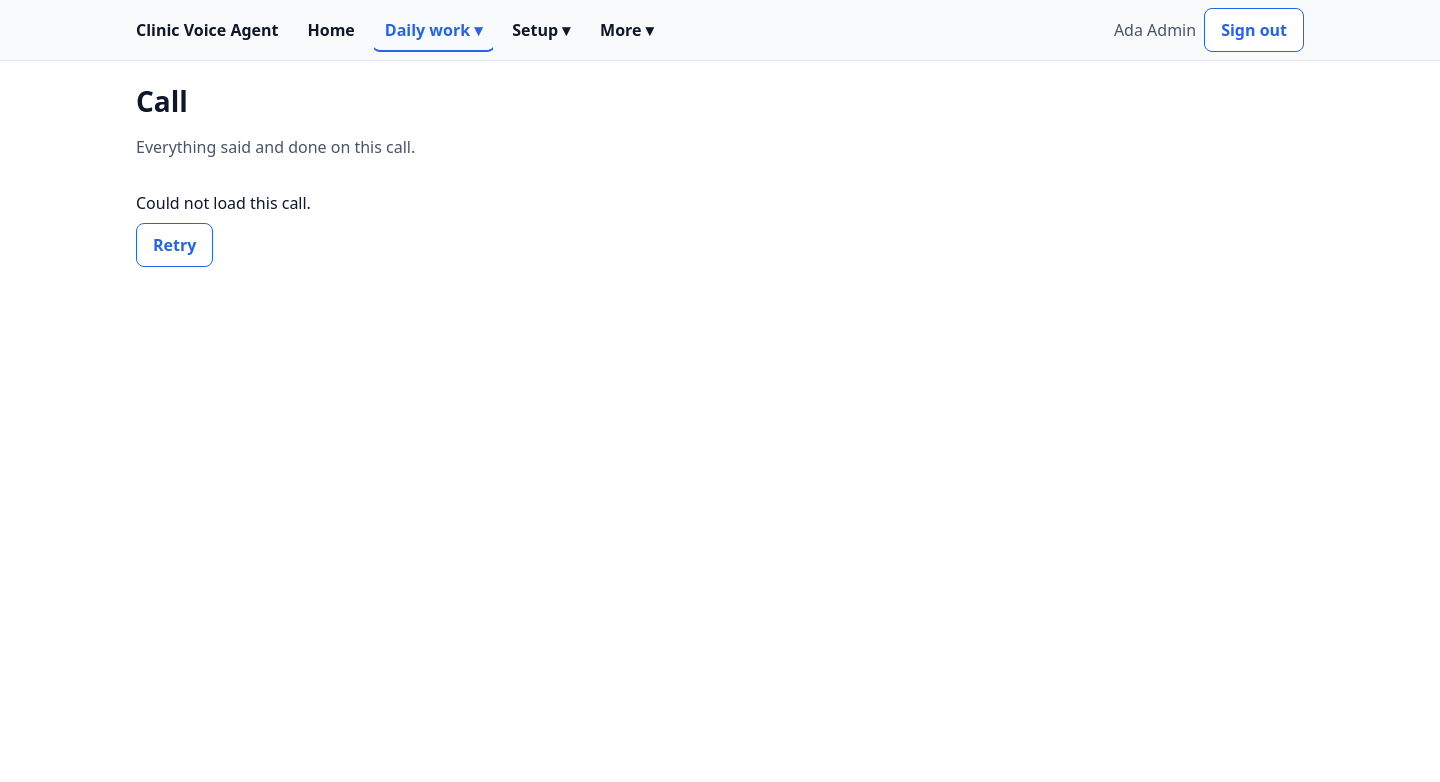
Scenario: call detail page › offers a retry for a server error
Click the button "Retry": [175, 245] box [136,223,213,267]
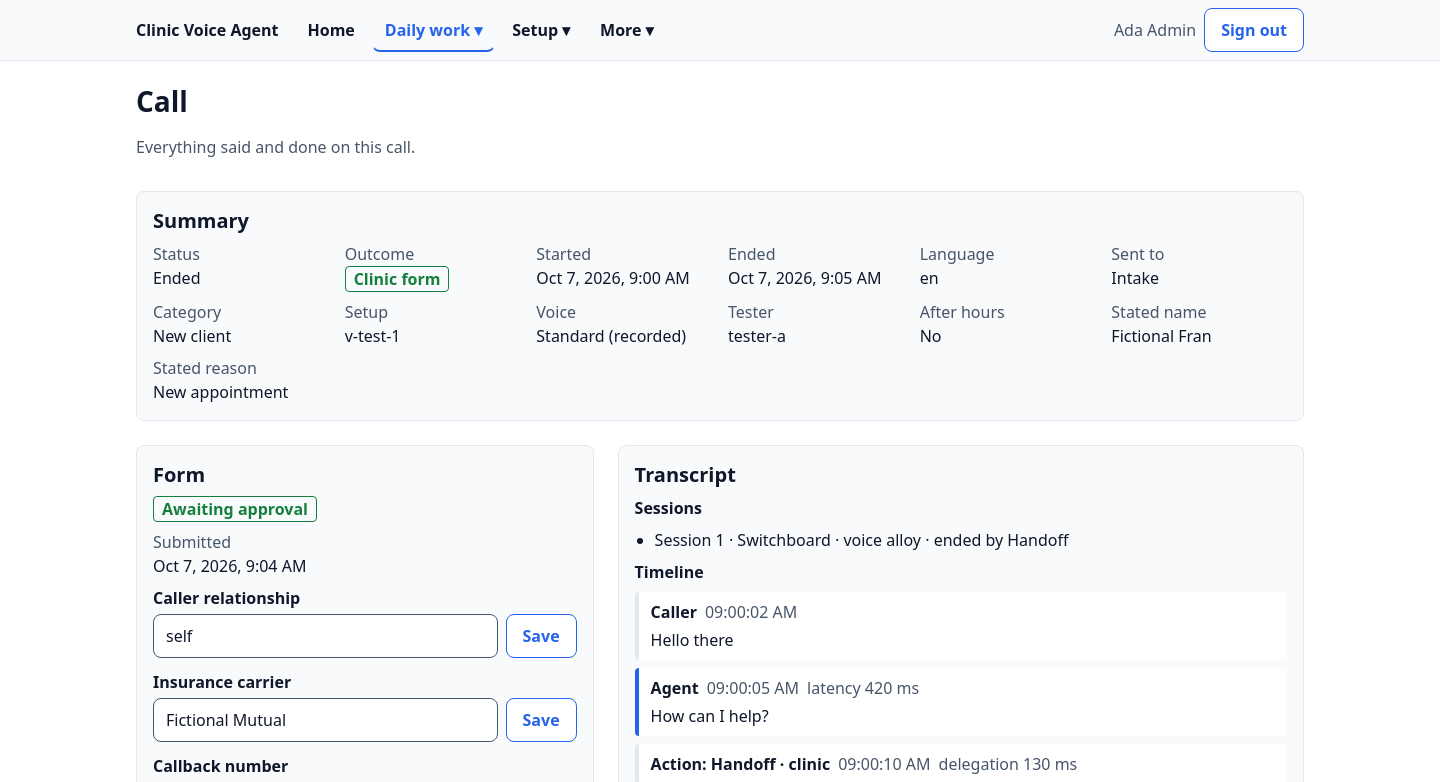
Expected: the element with test id "detail-header" shows "Fictional Fran", [1111,325,1212,347]
